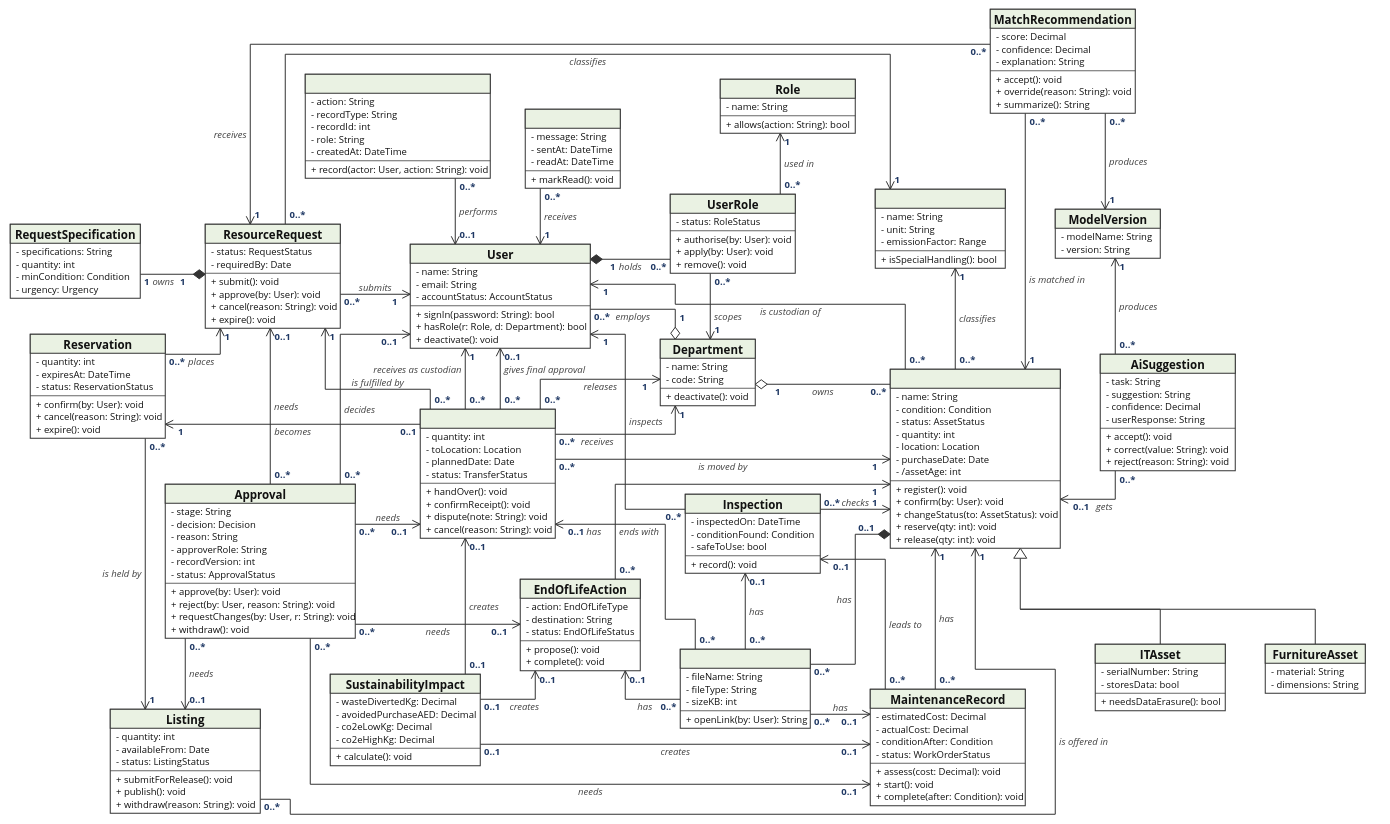
This 1390x824 diagram has some shape labels left out. Each missing label, with the centre of its shape:
"Asset" goes at [975,378].
"Attachment" goes at [745,658].
"AuditLog" goes at [397,84].
"Category" goes at [940,198].
"Notification" goes at [572,118].
"Transfer" goes at [488,418].
